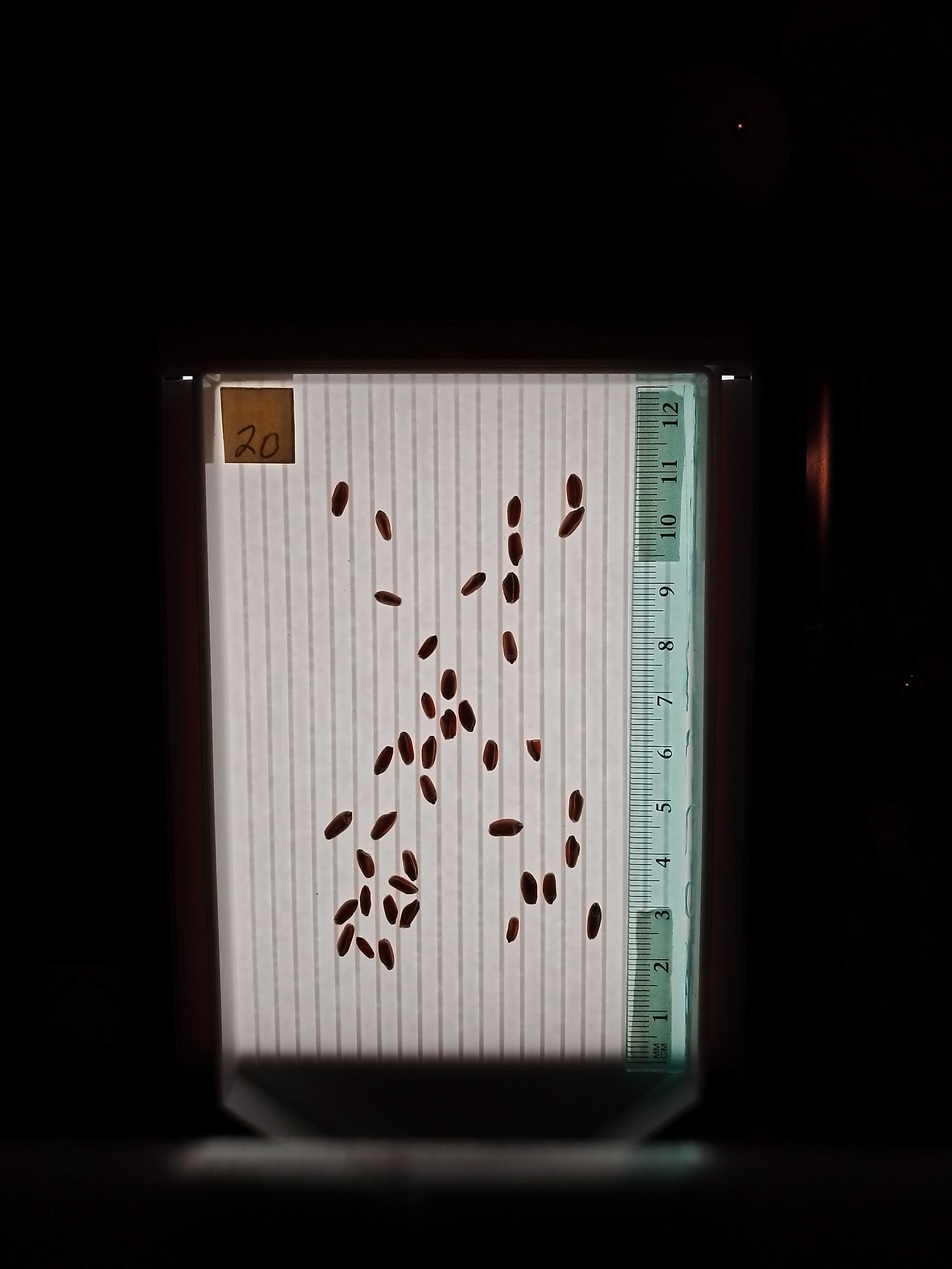seed mask: (325, 812, 353, 839), (559, 507, 584, 537), (372, 812, 397, 840), (489, 818, 523, 837), (331, 482, 349, 516), (566, 475, 583, 509), (461, 572, 485, 595), (458, 700, 475, 732), (521, 873, 538, 905), (374, 746, 393, 774), (400, 901, 419, 929), (334, 900, 357, 923), (337, 924, 354, 955), (587, 904, 602, 939), (389, 875, 416, 894), (507, 534, 523, 566), (421, 737, 437, 769), (398, 733, 414, 764), (568, 791, 584, 822), (375, 511, 392, 540), (440, 711, 457, 740), (483, 741, 499, 771), (565, 836, 580, 868), (503, 575, 520, 603), (357, 850, 374, 878), (379, 939, 394, 970), (441, 670, 457, 699), (402, 851, 418, 880), (420, 776, 437, 803), (418, 636, 438, 658), (507, 496, 521, 527), (503, 633, 517, 663), (383, 896, 398, 924), (543, 874, 557, 903), (375, 591, 401, 606), (357, 937, 373, 959), (421, 694, 435, 718), (360, 886, 371, 915), (507, 918, 519, 942)
